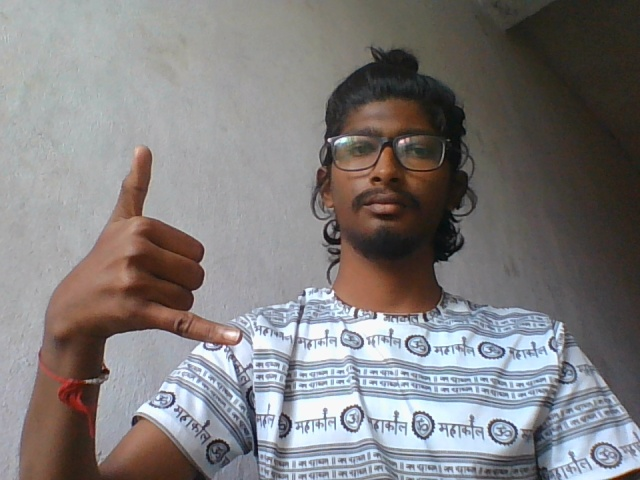Yes: (27, 140, 254, 373)
